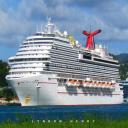cruises: (7, 15, 126, 108)
